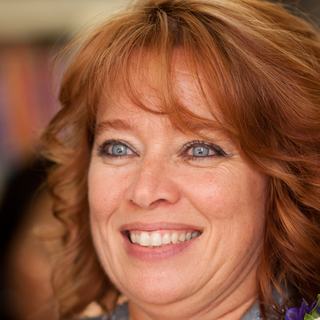eye: (179, 138, 229, 163), (97, 136, 142, 163)
